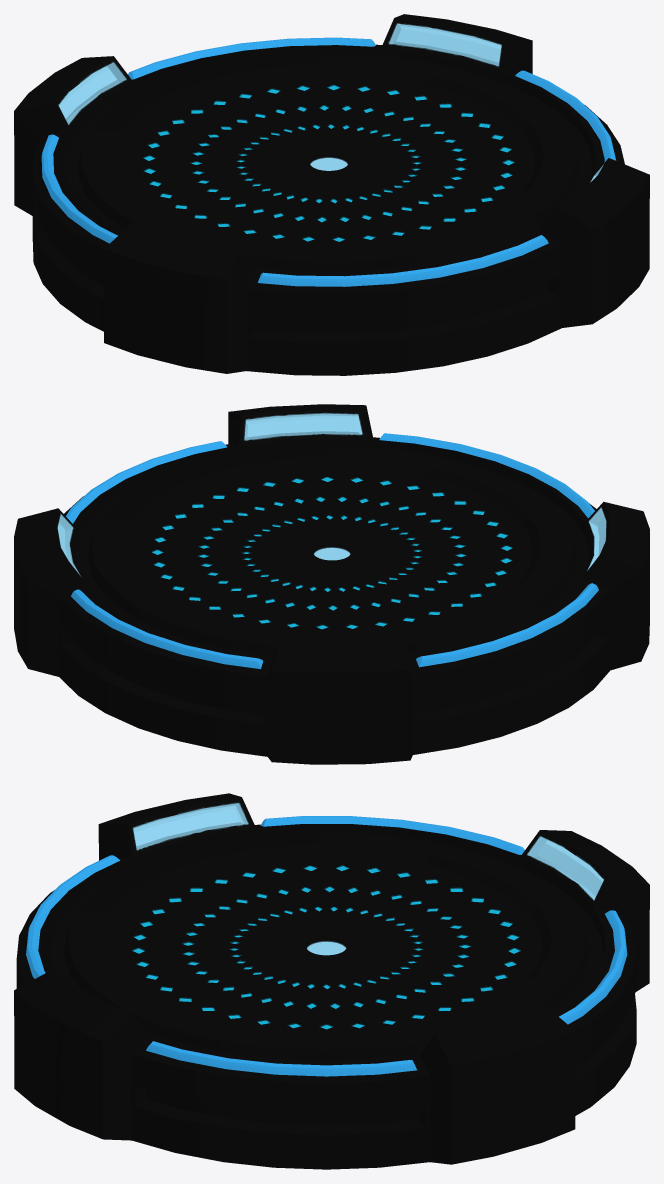
File: Podium 3D Model by Maks Art22.glb
3 renders of one model, top to bottom at view 1: azimuth 30°, elevation 25°; view 2: azimuth 150°, elevation 25°; view 3: azimuth 270°, elevation 25°, orthographic. The views are drawn at different scales.
Parts seen in each view (by area): view 1: polySurface2; view 2: polySurface2; view 3: polySurface2.
Boxes of the visible parts, <box> form: polySurface2: <box>14,14,649,375</box>; polySurface2: <box>14,404,649,764</box>; polySurface2: <box>14,793,649,1169</box>.
Size of the model in its own units: 0.926 by 0.199 by 0.9116.
Materials: 1 (1 with a texture image).
